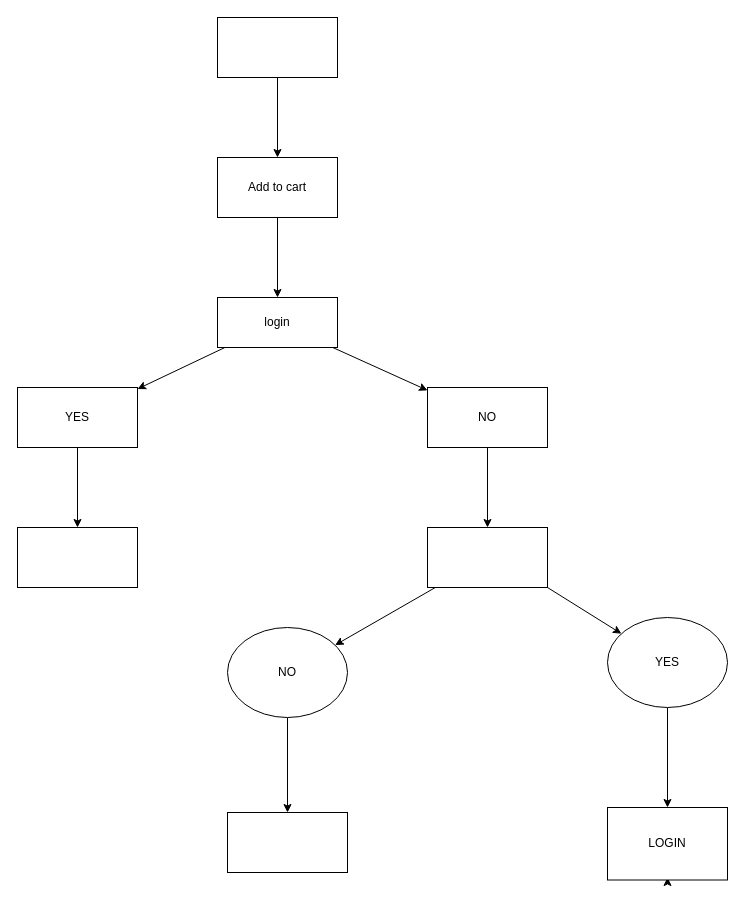
Image size: 745x906. Some labels were removed from this diagram. The shapes that lost their labels are listed below. From the top down, each one's centre as x and y in pixels, then its label:
(277,47): front page
(77,557): ADDED TO CART
(487,557): REGISTERED MEMBER
(287,842): REGISTER
